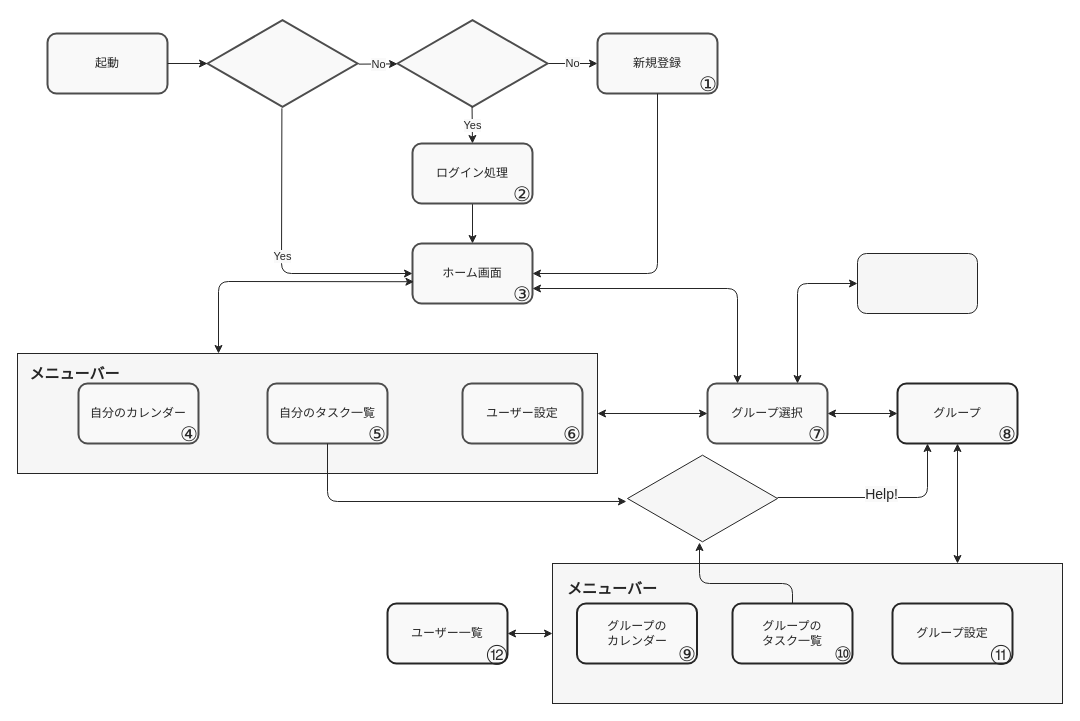
This 1080x721 diagram has some shape labels left out. The shapes that lost their labels are listed below. From the top down, each one's centre as x and y in pixels, then its label:
At pixel 282 63: "ログイン情報が 保存されているか".
At pixel 472 63: "アカウントを 持っているか".
At pixel 917 283: "グループの追加".
At pixel 702 498: "Help！を 飛ばす".
